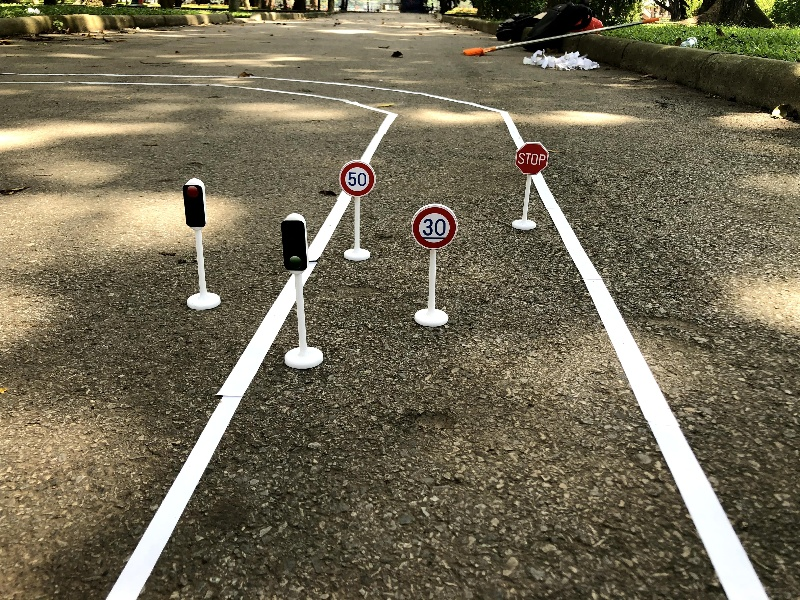Bien_bao_30: (403, 200, 464, 334)
Bien_bao_50: (338, 159, 379, 265)
Den_Do: (171, 174, 233, 316)
Den_Xanh: (266, 207, 332, 374)
Stop: (505, 139, 553, 236)
